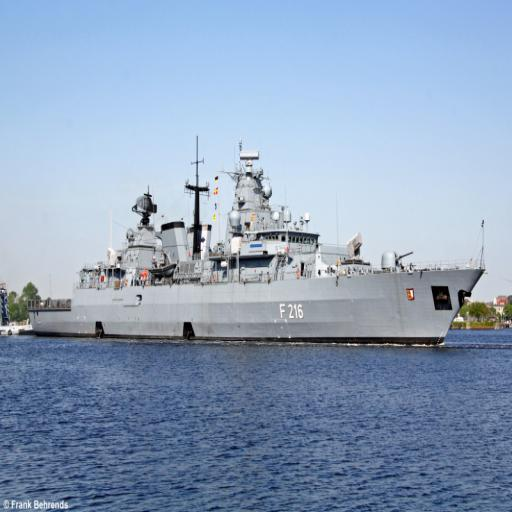Fragata: (19, 120, 493, 349)
